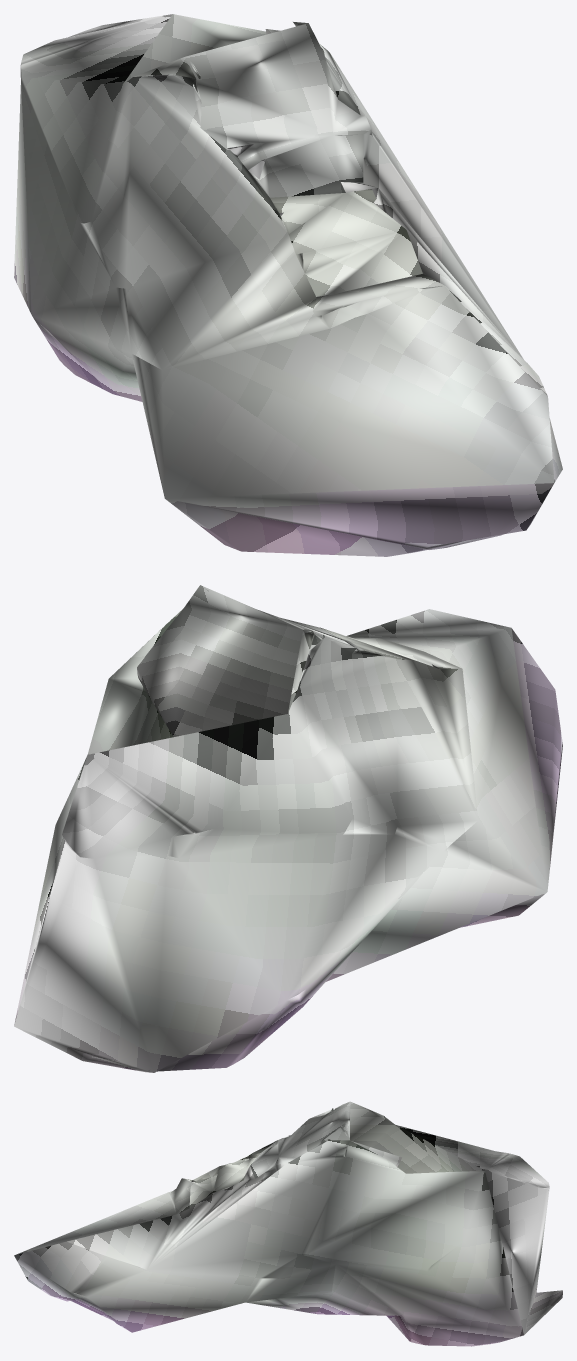
Rendered from Reebok_EASYTONE_CL_LEATHER-low.glb.
3 views of the same model, one above another, from view 1: azimuth 30°, elevation 25°; view 2: azimuth 150°, elevation 25°; view 3: azimuth 270°, elevation 25° (orthographic). The views are drawn at different scales.
Parts seen in each view (by area): view 1: Reebok_EASYTONE_CL_LEATHER; view 2: Reebok_EASYTONE_CL_LEATHER; view 3: Reebok_EASYTONE_CL_LEATHER.
Boxes of the visible parts, left/top/right/bottom form: Reebok_EASYTONE_CL_LEATHER: left=14, top=14, right=562, bottom=556; Reebok_EASYTONE_CL_LEATHER: left=14, top=585, right=562, bottom=1072; Reebok_EASYTONE_CL_LEATHER: left=14, top=1101, right=562, bottom=1346.
Size of the model in its own units: 0.0973 by 0.1176 by 0.263.
1 material, 1 textured.
